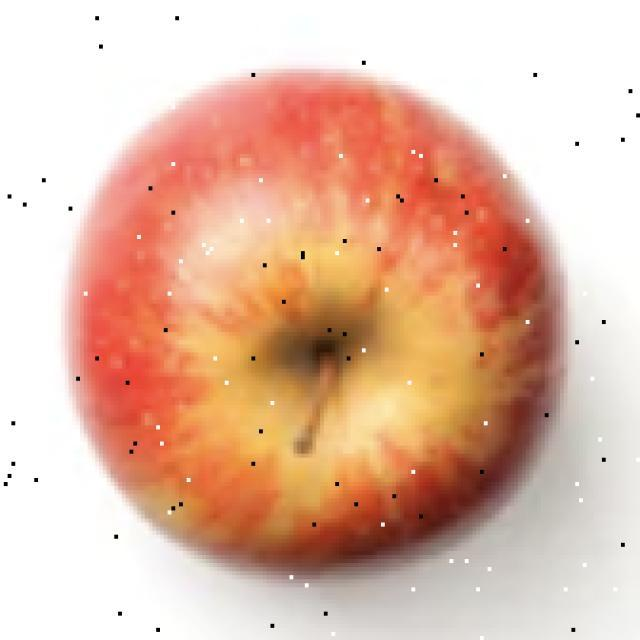Apple: (65, 65, 564, 577)
